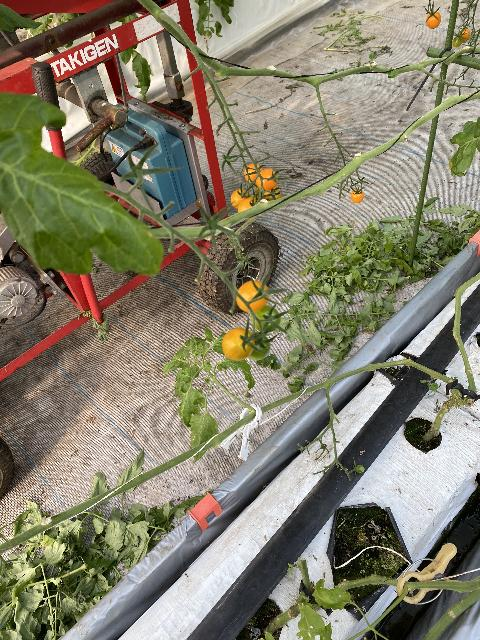l_green: (251, 305, 280, 332), (248, 331, 271, 361), (452, 36, 463, 47)
l_half_ripened: (222, 327, 255, 361), (236, 280, 270, 313), (256, 169, 279, 191), (245, 163, 263, 184), (231, 189, 248, 209), (238, 198, 256, 213), (426, 11, 441, 29), (264, 188, 282, 201), (351, 189, 364, 203), (458, 28, 470, 41)
